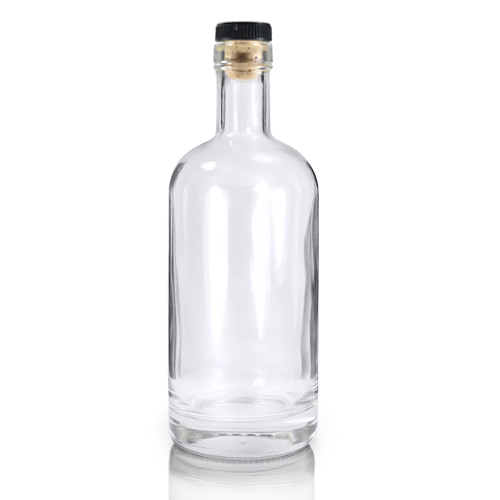glass_bottle: (164, 16, 323, 473)
